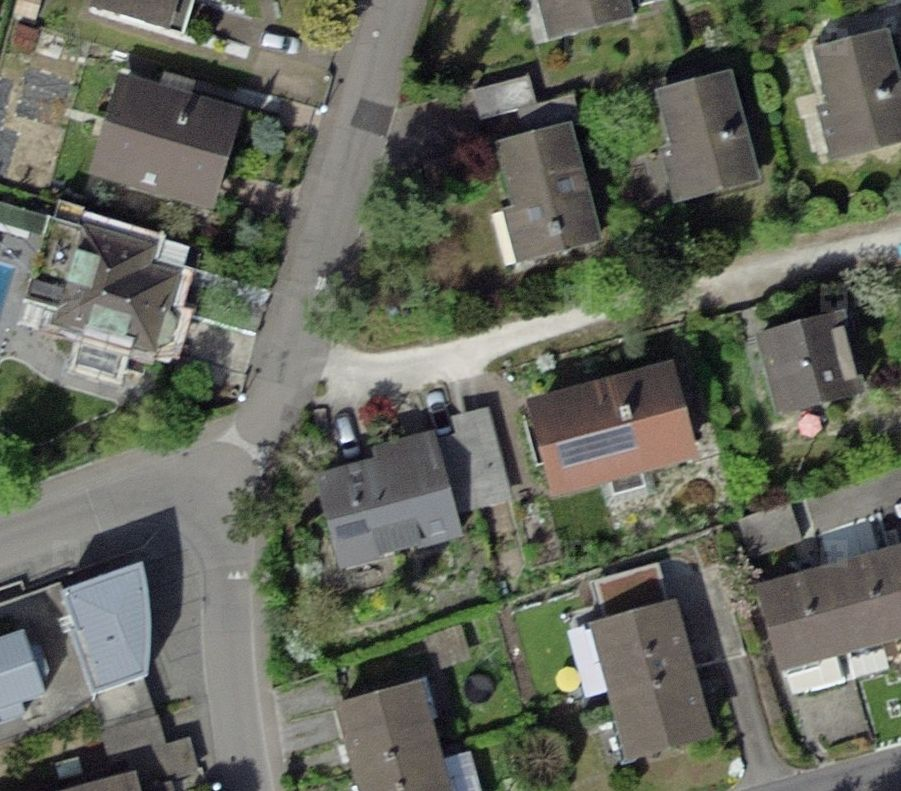solar: (550, 421, 642, 471)
